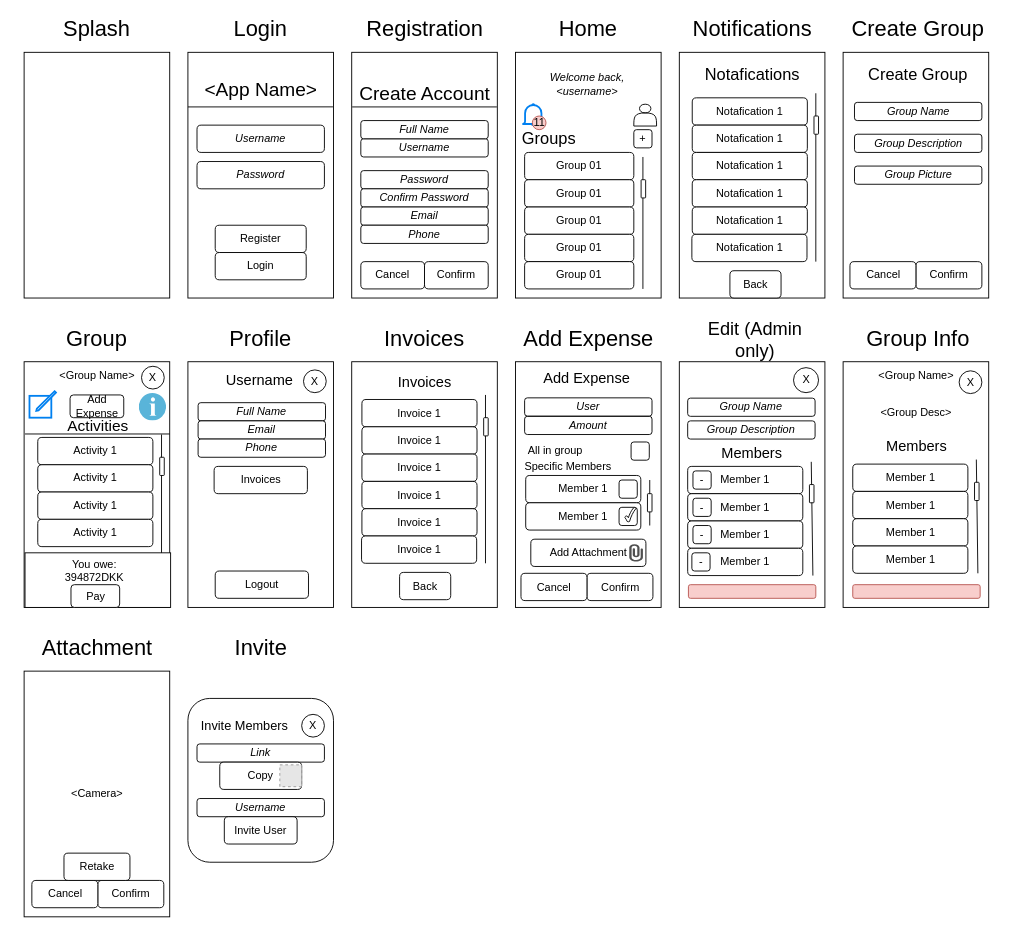
The diagram is 1014 pixels wide and 933 high, and some of its shapes have lost their labels. Grey dashed boxes stand in for pictures. Here are the shapes that lost their labels. From the top down, the centre of each, then its label:
point (96, 174): <Some image>
point (752, 591): Delete Group
point (916, 591): Leave Group
